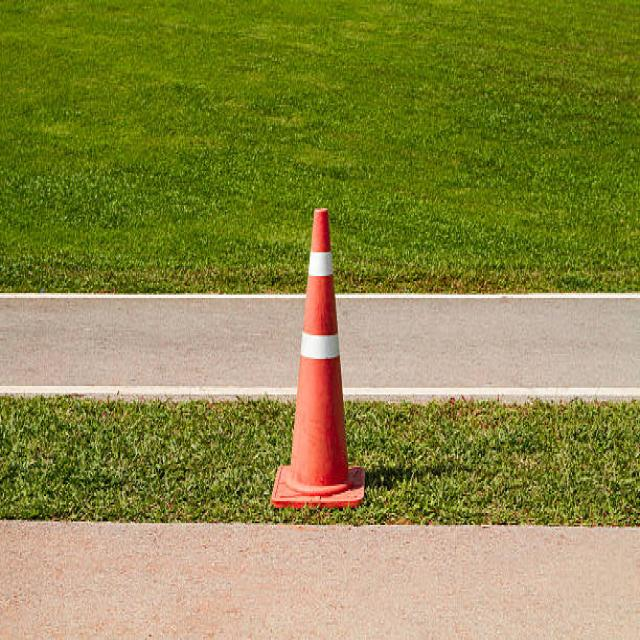Traffic Cone: (256, 188, 382, 525)
